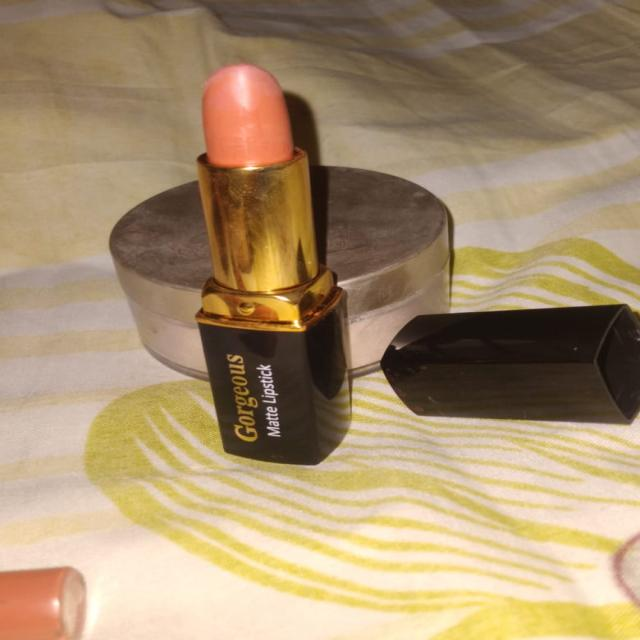lip stick: (173, 58, 370, 490)
